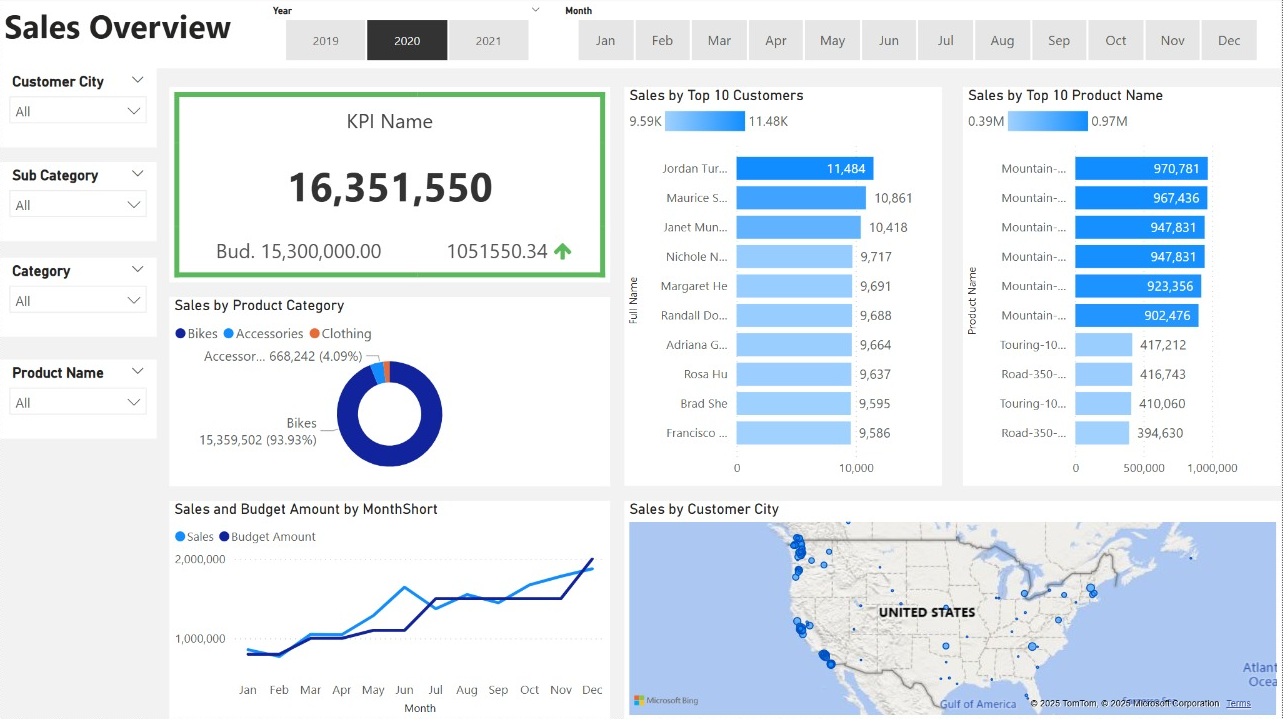

This screenshot's page, from the dashboard's own definition file:
{"tool":"powerbi","page":{"name":"Sales Overview","canvas":[1280,720],"ordinal":0},"visuals":[{"type":"textbox","box":[0,0,1279.4,69.8],"z":0},{"type":"slicer","fields":{"Values":["DIM_Customers.Customer City"]},"box":[0,69.8,157.1,79.4],"z":1000},{"type":"slicer","fields":{"Values":["DIM_Products.Sub Category"]},"box":[0,163.5,157.1,79.4],"z":2000},{"type":"slicer","fields":{"Values":["DIM_Products.Product Category"]},"box":[0,258.7,157.1,79.4],"z":3000},{"type":"slicer","fields":{"Values":["DIM_Products.Product Name"]},"box":[0,360.3,157.1,79.4],"z":4000},{"type":"slicer","fields":{"Values":["DIM_Calendar.Date.Variation.Date Hierarchy.Year"]},"box":[260.3,1.6,292.1,66.7],"z":5000},{"type":"slicer","fields":{"Values":["DIM_Calendar.MonthShort"]},"box":[552.4,1.6,727,66.7],"z":6000},{"type":"BBED0A4D4D8D44CE93CF2DAFADEE466C","fields":{"actual":["FACT_InternetSales.Sales"],"target1":["Key Measures.Budget Amount"],"target2":["Key Measures.Sales - Budget"]},"box":[169.8,88.9,439.7,195.2],"z":7000},{"type":"donutChart","fields":{"Category":["DIM_Products.Product Category"],"Y":["Key Measures.Sales"]},"box":[169.8,298.4,439.7,188.9],"z":8000},{"type":"lineChart","fields":{"Y":["Key Measures.Sales","Key Measures.Budget Amount"],"Category":["DIM_Calendar.MonthShort"]},"box":[169.8,501.6,439.7,219],"z":9000},{"type":"barChart","title":"Sales by Top 10 Customers","fields":{"Y":["Key Measures.Sales"],"Category":["DIM_Customers.Full Name"]},"box":[623.8,88.9,317.5,398.4],"z":10000},{"type":"barChart","title":"Sales by Top 10 Product Name","fields":{"Y":["Key Measures.Sales"],"Category":["DIM_Products.Product Name"]},"box":[961.9,88.9,317.5,398.4],"z":11000},{"type":"map","fields":{"Category":["DIM_Customers.Customer City"],"Size":["Key Measures.Sales"]},"box":[623.8,501.6,655.6,219],"z":12000}]}

Visuals, with their boxes in screenshot pixels (x1, y1, x2, y2), scaled from the page's 1280x720 canvas onto the 1283x719 screenshot:
textbox: 0/0/1282/70
slicer - DIM_Customers.Customer City: 0/70/157/149
slicer - DIM_Products.Sub Category: 0/163/157/243
slicer - DIM_Products.Product Category: 0/258/157/338
slicer - DIM_Products.Product Name: 0/360/157/439
slicer - DIM_Calendar.Date.Variation.Date Hierarchy.Year: 261/2/554/68
slicer - DIM_Calendar.MonthShort: 554/2/1282/68
BBED0A4D4D8D44CE93CF2DAFADEE466C - FACT_InternetSales.Sales x Key Measures.Budget Amount: 170/89/611/284
donutChart - DIM_Products.Product Category x Key Measures.Sales: 170/298/611/487
lineChart - Key Measures.Sales x Key Measures.Budget Amount: 170/501/611/718
"Sales by Top 10 Customers" barChart: 625/89/944/487
"Sales by Top 10 Product Name" barChart: 964/89/1282/487
map - DIM_Customers.Customer City x Key Measures.Sales: 625/501/1282/718
